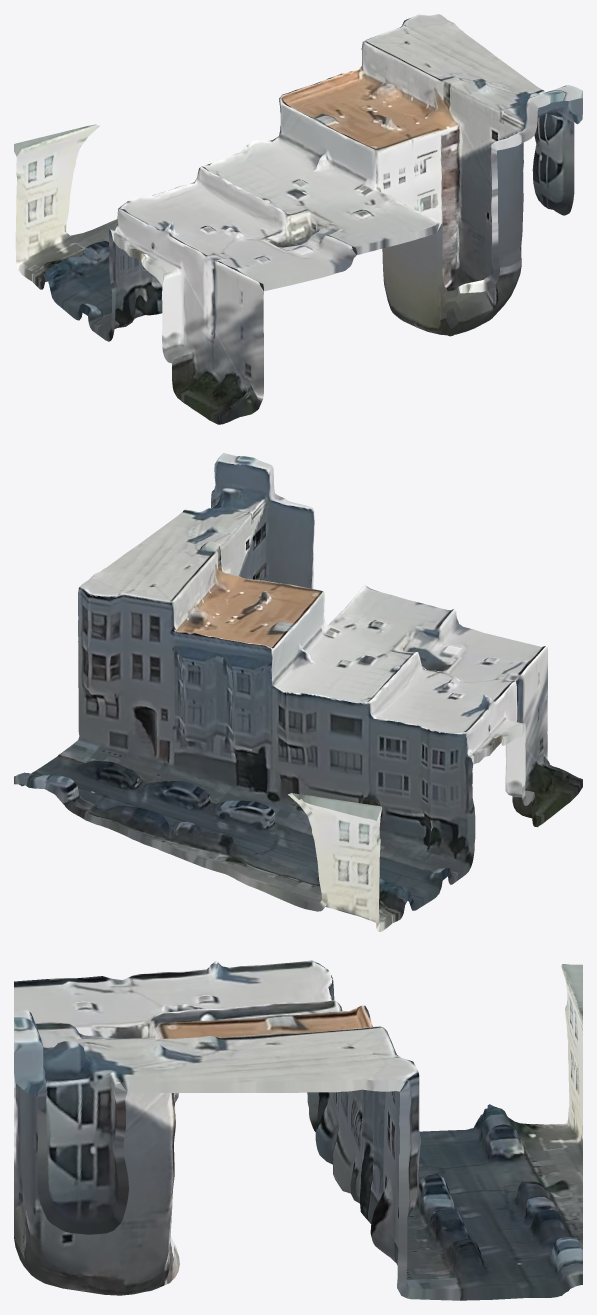
Rendered from z20-167749-405196-h0-yup-uvflip-v3-world.glb.
The picture shows the model from 3 angles, top to bottom: view 1: azimuth 30°, elevation 25°; view 2: azimuth 150°, elevation 25°; view 3: azimuth 270°, elevation 25°; orthographic projection. The views are drawn at different scales.
Size of the model in its own units: 30.16 by 20.52 by 30.32.
1 material, 1 textured.
